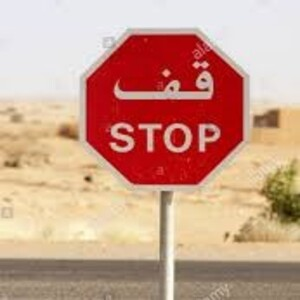stop: (80, 27, 250, 191)
